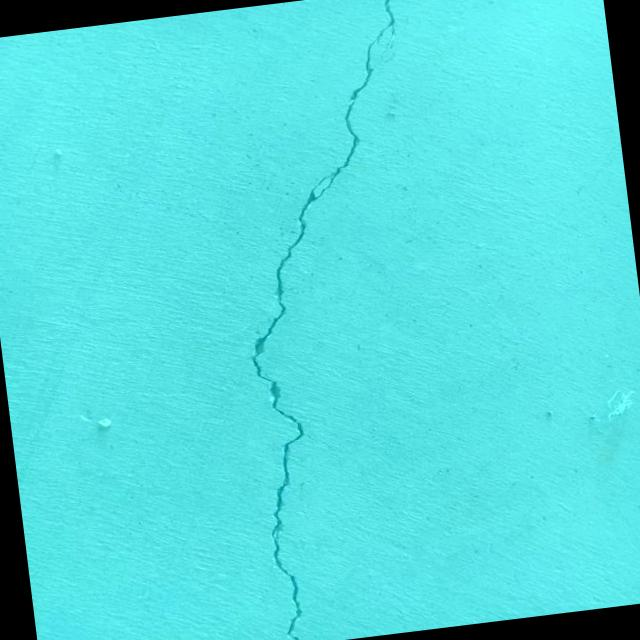crack: (203, 0, 470, 640), (382, 51, 396, 64)
